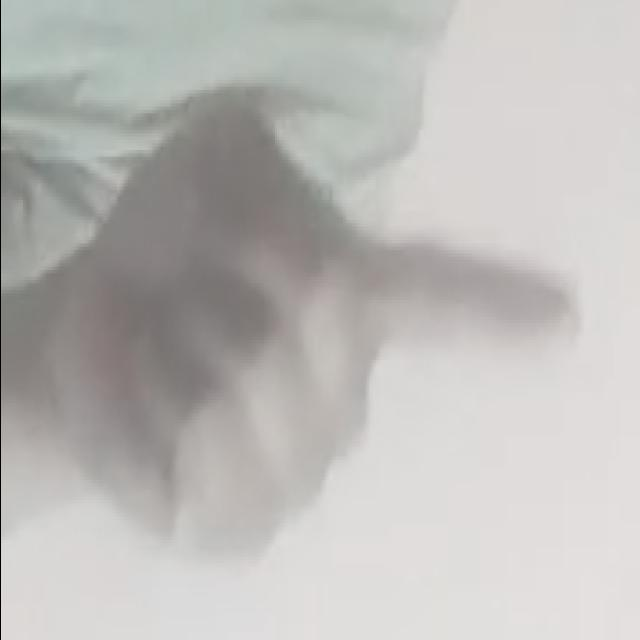Z: (36, 77, 592, 574)
